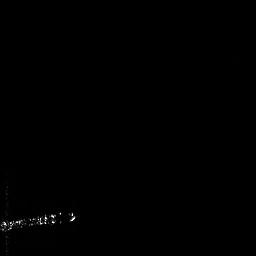ship: (1, 180, 78, 256)
